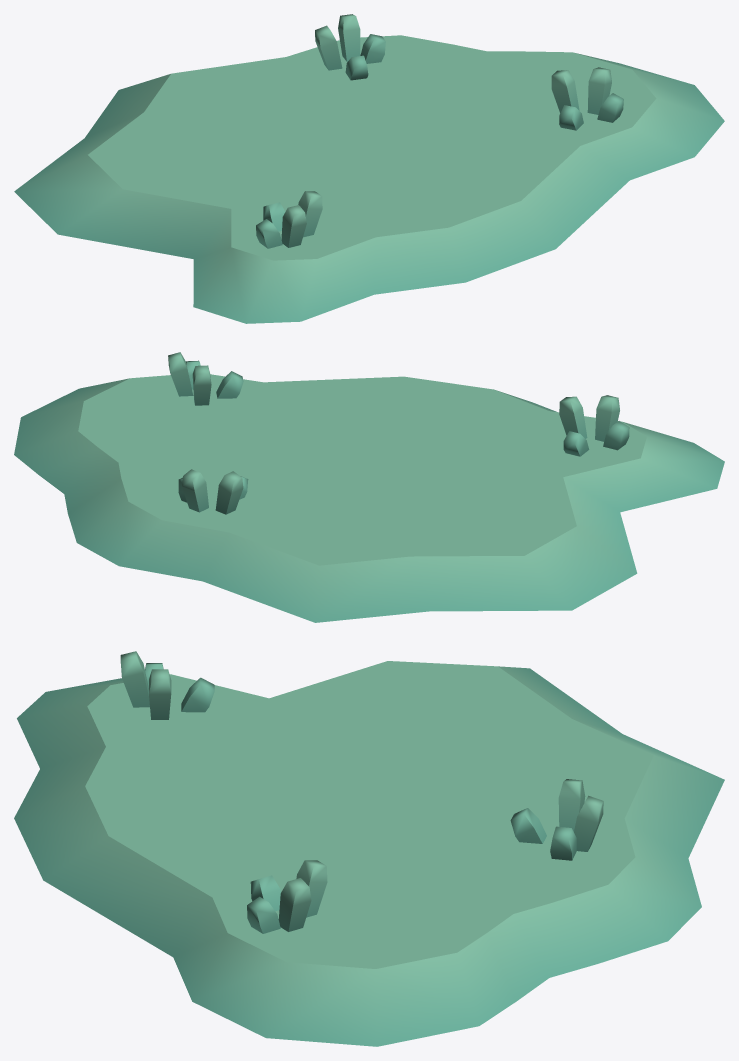
File: patch-grass-foliage.glb
3 renders of one model, top to bottom at view 1: azimuth 30°, elevation 25°; view 2: azimuth 150°, elevation 25°; view 3: azimuth 270°, elevation 25°, orthographic. The views are drawn at different scales.
Parts seen in each view (by area): view 1: patch-grass-foliage; view 2: patch-grass-foliage; view 3: patch-grass-foliage.
Part boxes in pixels (<box>): patch-grass-foliage: <box>14,14,724,323</box>; patch-grass-foliage: <box>14,352,724,622</box>; patch-grass-foliage: <box>14,651,724,1046</box>.
Bounding box in the file's own units: 5.27 × 0.5639 × 4.11.
